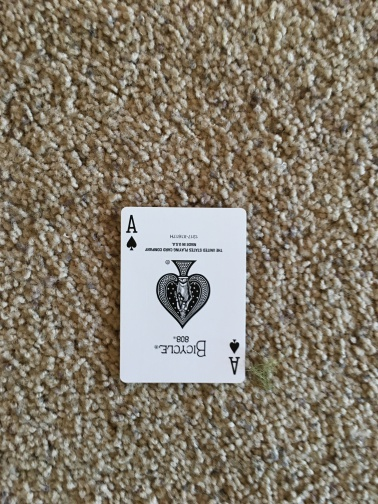ace: (118, 205, 246, 384)
